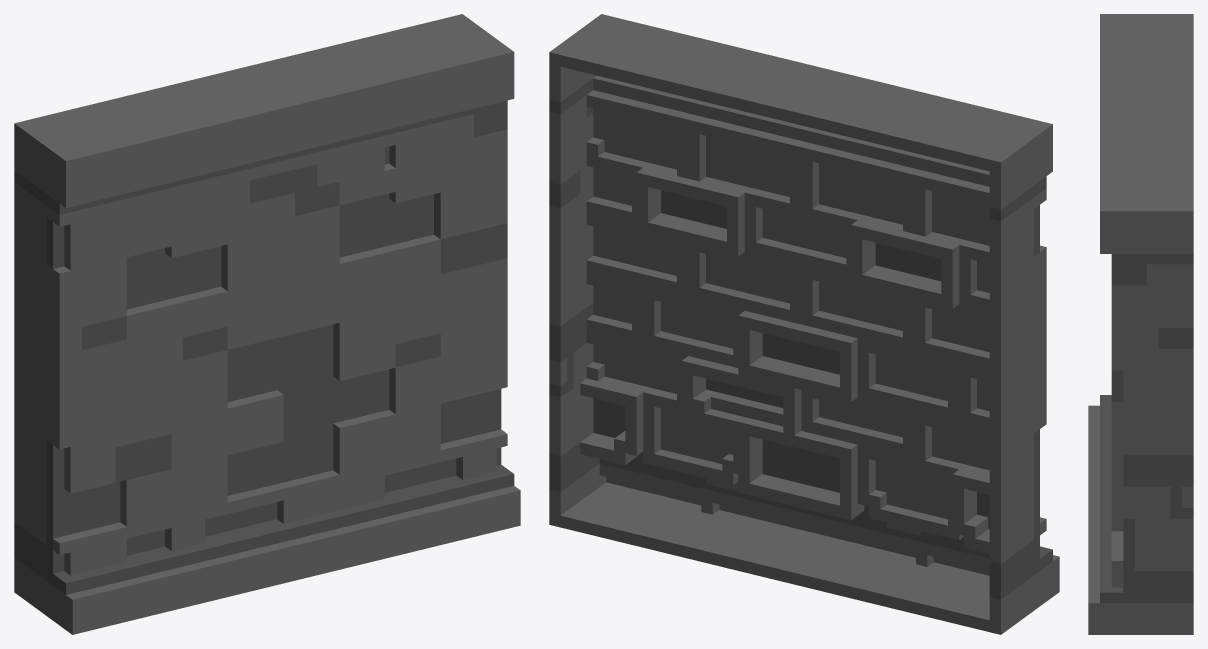
The model's file is Tilemap_Deco_C0_P002.obj.
3 views of the same model, side by side, from view 1: azimuth 30°, elevation 25°; view 2: azimuth 150°, elevation 25°; view 3: azimuth 270°, elevation 25° (orthographic). The views are drawn at different scales.
Size of the model in its own units: 4 by 4 by 0.9.
1 material, 1 textured.
